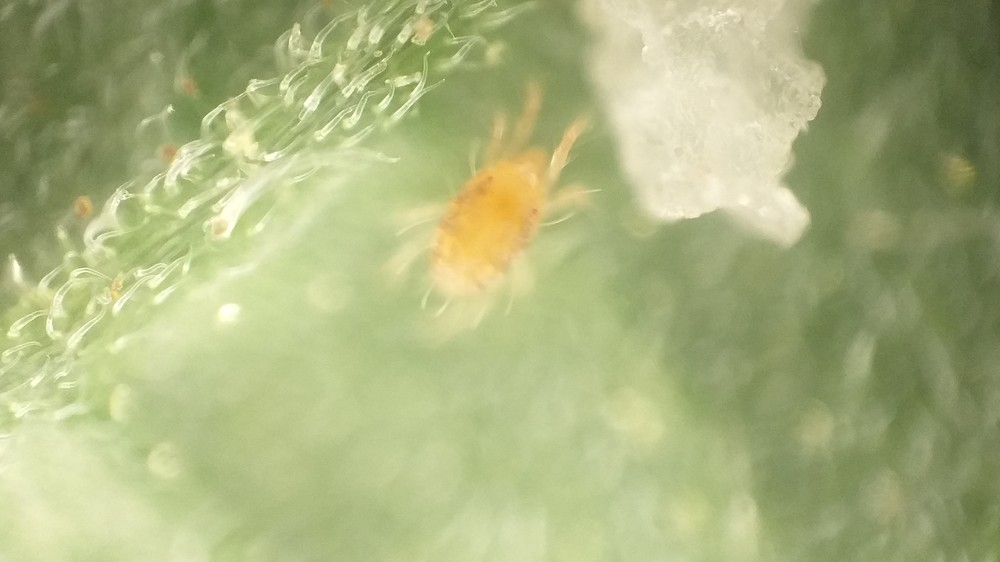Aracnido Rojo: (383, 81, 609, 337)
